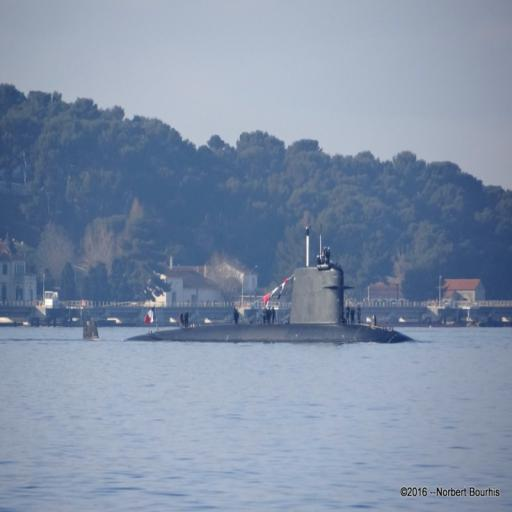submarine: (88, 225, 415, 342)
